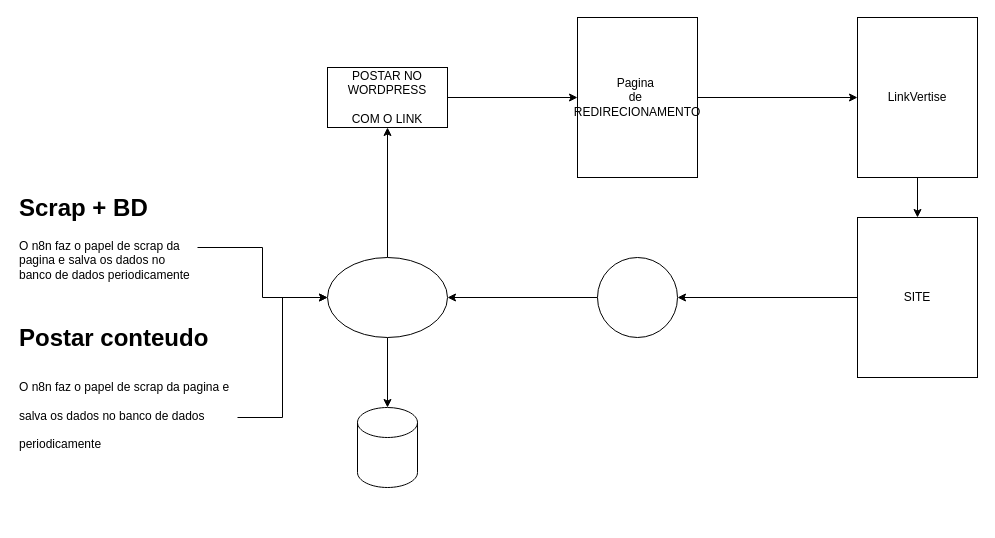
This 995x538 diagram has some shape labels left out. The centre of each missing label's shape, as x and y in pixels:
"CONTEUDO" belongs at point (637, 297).
"N8N" belongs at point (387, 297).
